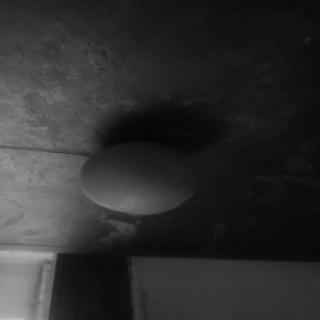Telur: (75, 137, 205, 219)
